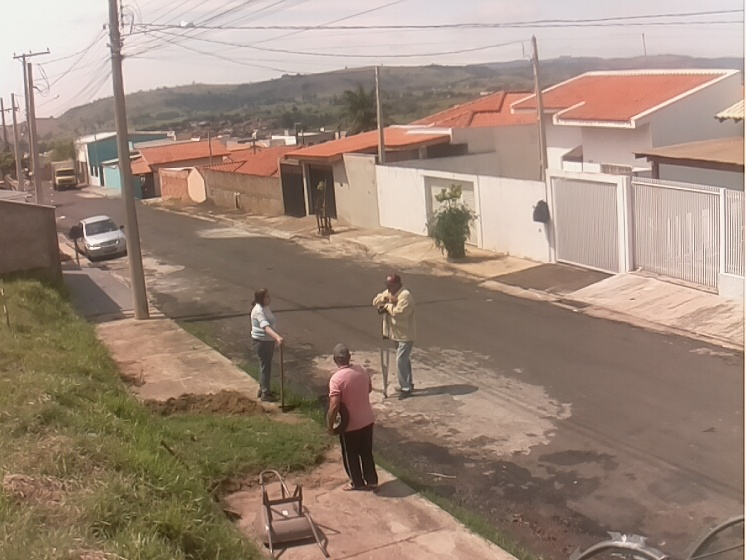person: (325, 343, 379, 492), (372, 273, 418, 400), (250, 287, 284, 403)
